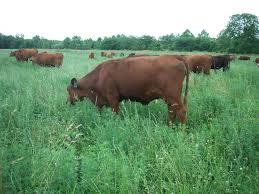cow: (68, 55, 189, 127), (177, 54, 211, 75), (30, 52, 63, 68), (209, 54, 231, 72), (9, 48, 37, 61)
